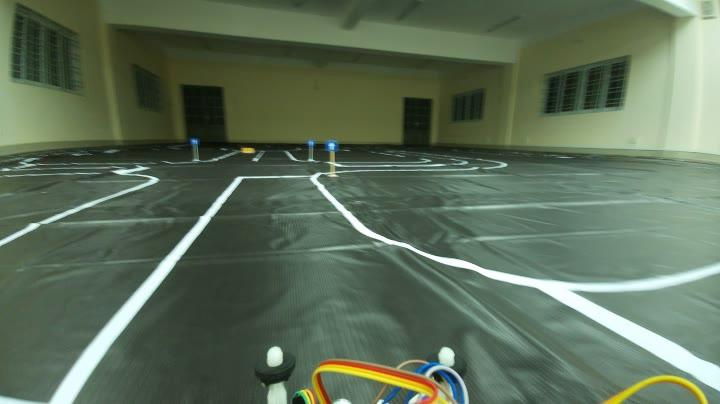onewayroad: (324, 138, 340, 150), (189, 136, 203, 146), (307, 136, 316, 150)
roadblock: (236, 143, 258, 157)
